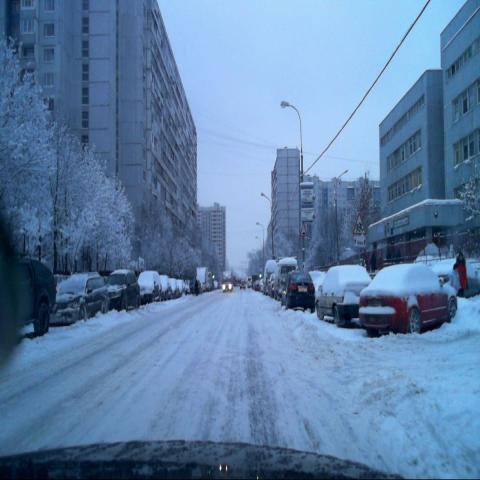1_23: (352, 212, 367, 236)
